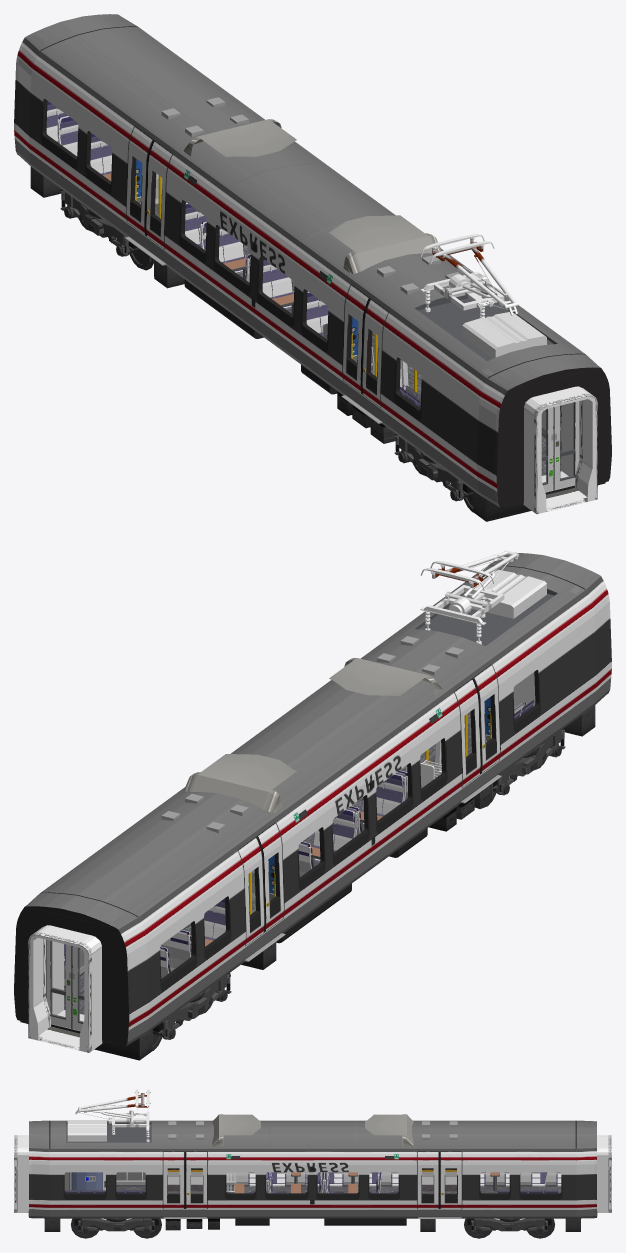
Rendered from module_express_panto_5m.obj.
3 renders of one model, top to bottom at view 1: azimuth 30°, elevation 25°; view 2: azimuth 150°, elevation 25°; view 3: azimuth 270°, elevation 25°, orthographic. The views are drawn at different scales.
Parts seen in each view (by area): view 1: m_side, m_jibung, m_aircon, m_mak, m_backout, m_habu, m_dt71, m_panto, m_door_RB, m_door_RF, m_foldingchair, m_oscarchair (+4 smaller); view 2: m_side, m_jibung, m_aircon, m_mak, m_backout, m_habu, m_panto, m_door_RB, m_door_RF, m_dt71, m_oscarchair, m_interiors (+4 smaller); view 3: m_side, m_jibung, m_aircon, m_dt71, m_mak, m_habu, m_door_LF, m_door_LB, m_floor, m_foldingchair, m_oscarchair, m_heater (+5 smaller).
Boxes of the visible parts, x1,y1,x2,y2 form: m_side: [14, 16, 611, 507]; m_jibung: [25, 14, 600, 390]; m_aircon: [161, 97, 546, 358]; m_mak: [523, 386, 597, 514]; m_backout: [501, 367, 607, 506]; m_habu: [30, 166, 605, 521]; m_dt71: [60, 189, 473, 512]; m_panto: [420, 234, 518, 318]; m_door_RB: [126, 142, 364, 406]; m_door_RF: [145, 156, 382, 420]; m_foldingchair: [46, 101, 561, 440]; m_oscarchair: [185, 202, 294, 314]; m_side: [14, 559, 611, 1046]; m_jibung: [25, 552, 600, 929]; m_aircon: [161, 569, 546, 833]; m_mak: [28, 925, 102, 1052]; m_backout: [18, 906, 124, 1045]; m_habu: [20, 705, 595, 1060]; m_panto: [420, 550, 519, 644]; m_door_RB: [244, 694, 481, 958]; m_door_RF: [262, 680, 499, 944]; m_dt71: [152, 728, 565, 1050]; m_oscarchair: [252, 773, 405, 898]; m_interiors: [46, 759, 441, 1030]; m_side: [29, 1120, 596, 1218]; m_jibung: [29, 1120, 596, 1148]; m_aircon: [67, 1114, 457, 1146]; m_dt71: [71, 1218, 554, 1238]; m_mak: [14, 1135, 611, 1212]; m_habu: [28, 1211, 597, 1231]; m_door_LF: [163, 1161, 439, 1216]; m_door_LB: [185, 1161, 461, 1216]; m_floor: [116, 1184, 561, 1193]; m_foldingchair: [64, 1172, 561, 1193]; m_oscarchair: [267, 1172, 398, 1193]; m_heater: [116, 1175, 557, 1186].
Size of the model in its own units: 2.88 by 5.06 by 20.53.
Materials: 30 (30 with a texture image).
